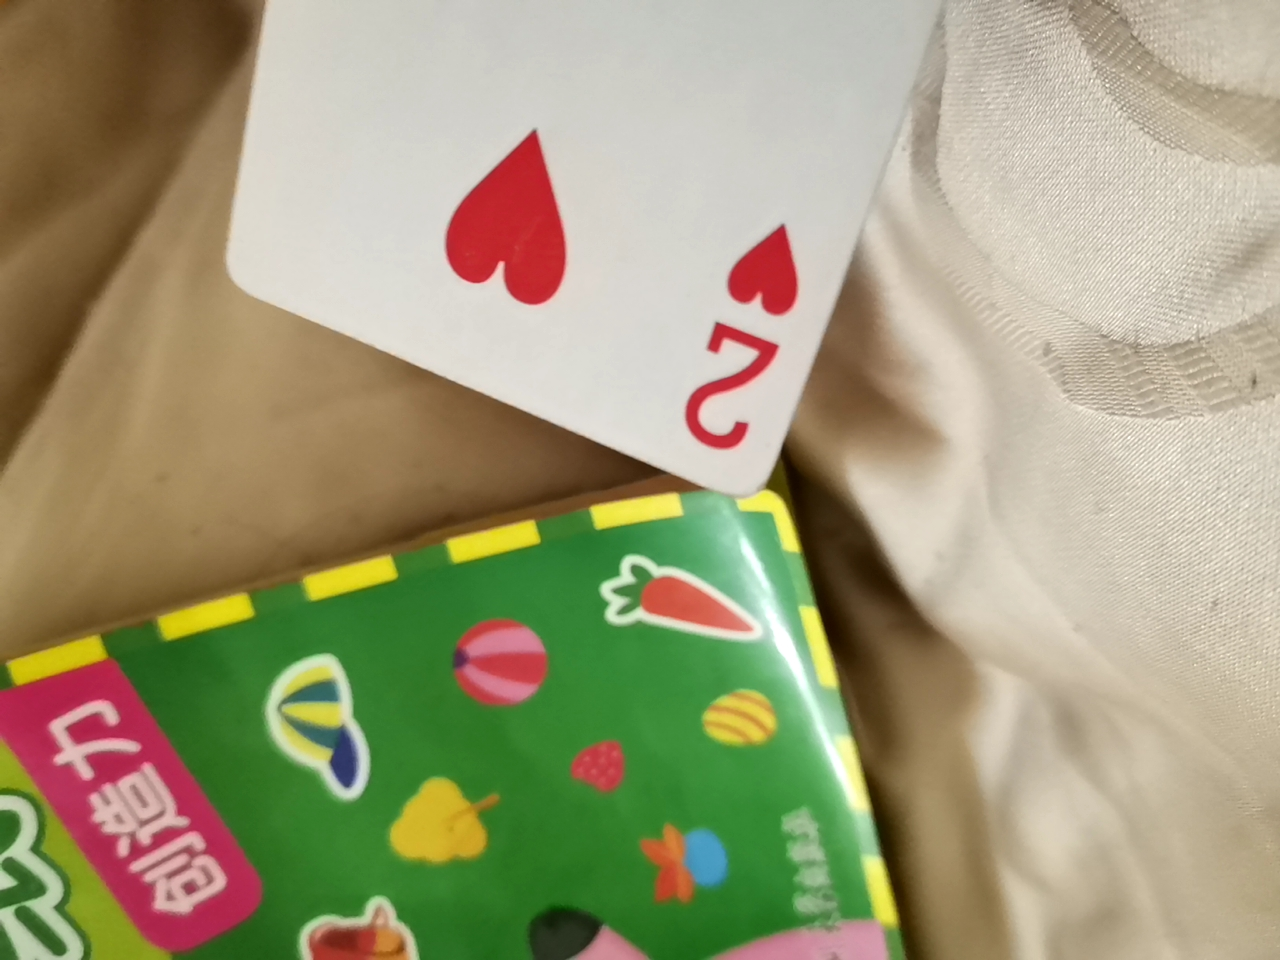hx 2: (205, 5, 1042, 594)
